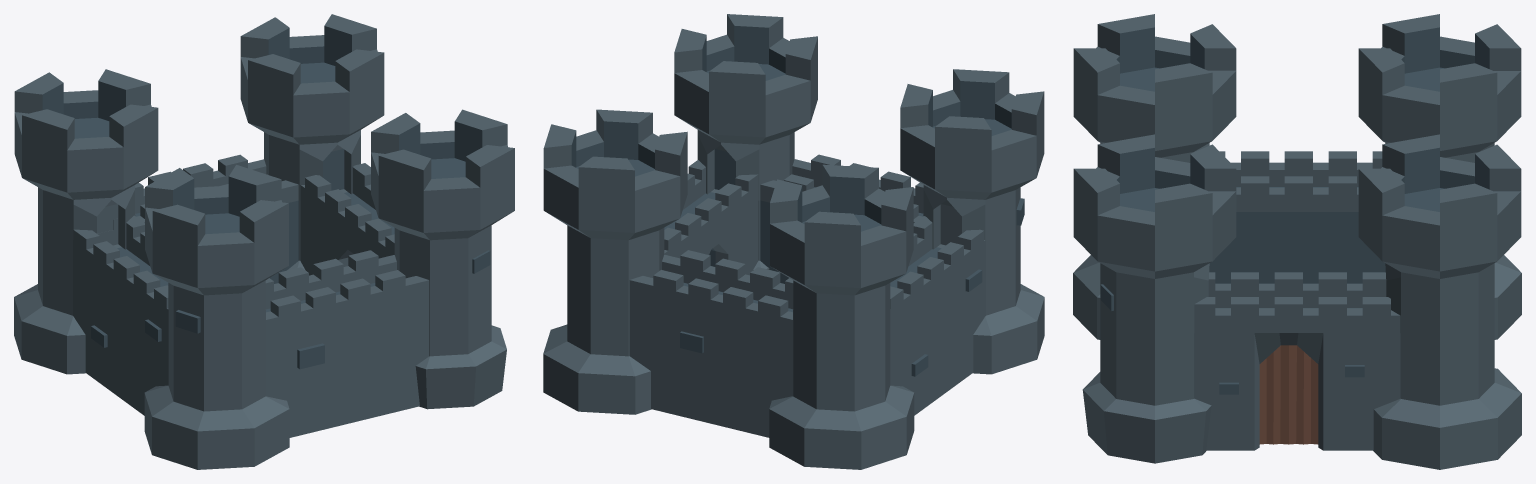
The model's file is fort.fbx.
3 views of the same model, side by side, from view 1: azimuth 30°, elevation 25°; view 2: azimuth 150°, elevation 25°; view 3: azimuth 270°, elevation 25° (orthographic). The views are drawn at different scales.
Parts seen in each view (by area): view 1: Castle_01; view 2: Castle_01; view 3: Castle_01.
Part boxes in pixels (x1,y1,x2,y2): Castle_01: [14, 14, 514, 469]; Castle_01: [543, 14, 1044, 469]; Castle_01: [1073, 14, 1521, 469].
Bounding box in the file's own units: 1.5 × 0.9879 × 1.5.
